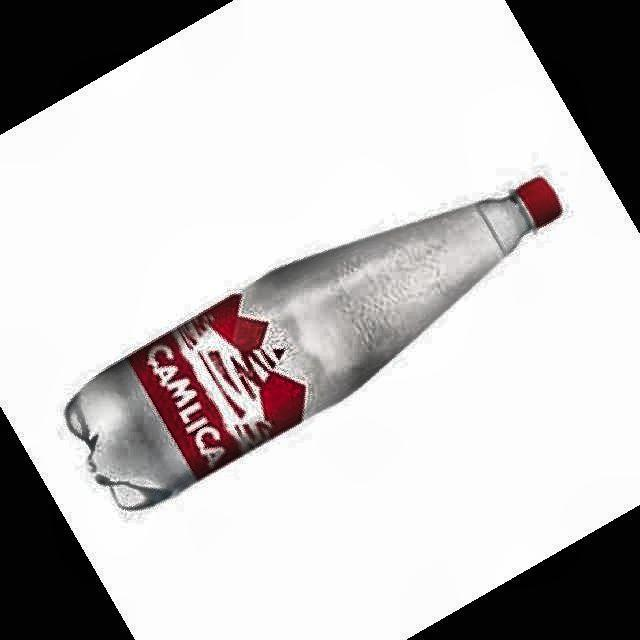plastic: (68, 178, 561, 509)
